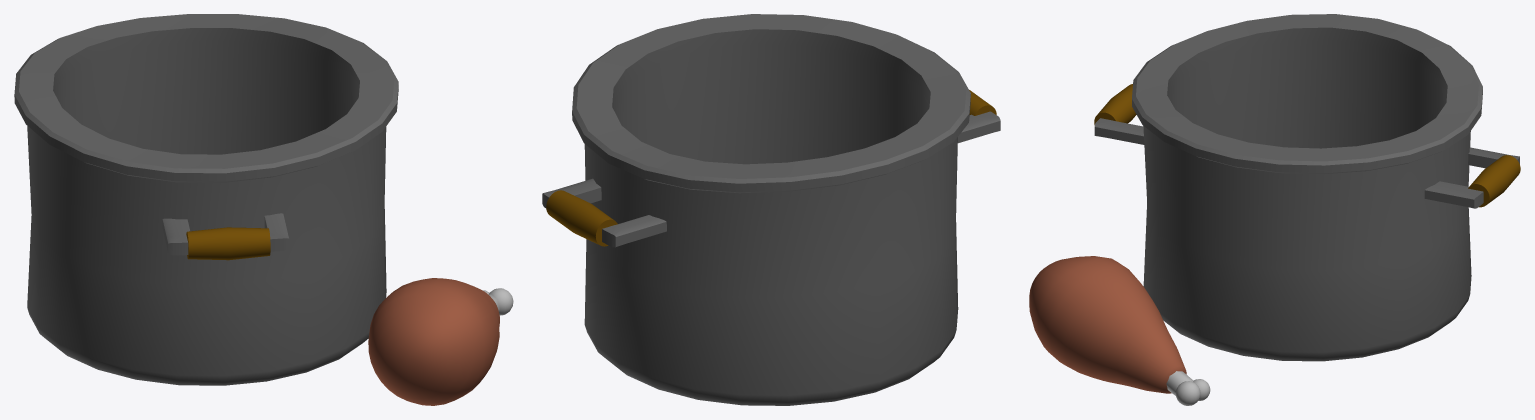
The model's file is pot.glb.
3 views of the same model, side by side, from view 1: azimuth 30°, elevation 25°; view 2: azimuth 150°, elevation 25°; view 3: azimuth 270°, elevation 25° (orthographic). The views are drawn at different scales.
Visible parts, largest first — view 1: Cylinder, Sphere; view 2: Cylinder; view 3: Cylinder, Sphere.
Part boxes in pixels (<box>): Cylinder: <box>14,14,398,385</box>; Sphere: <box>368,278,513,405</box>; Cylinder: <box>542,14,1000,405</box>; Cylinder: <box>1094,14,1520,361</box>; Sphere: <box>1029,256,1210,405</box>.
Bounding box in the file's own units: 2.58 × 1.56 × 2.96.
